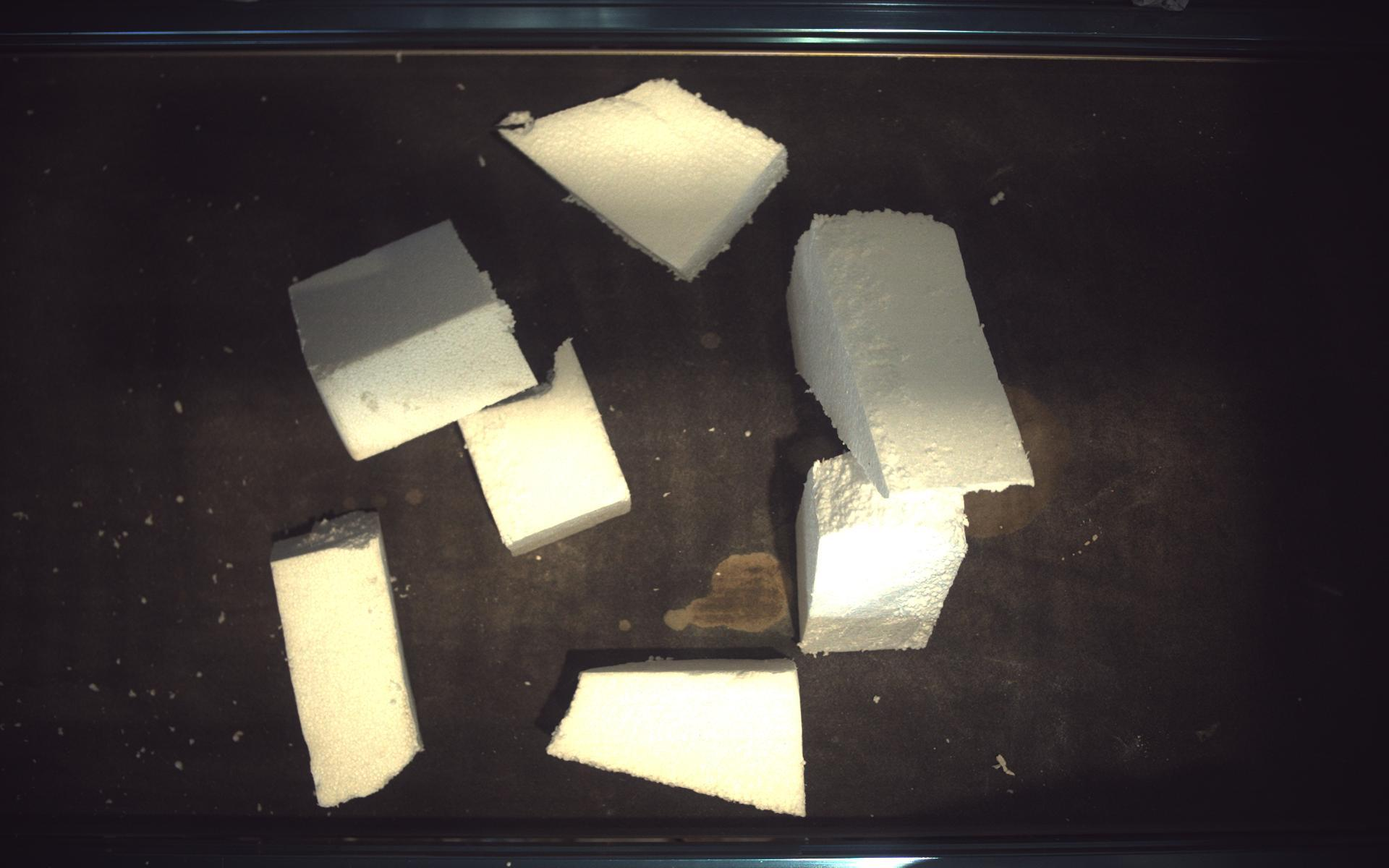foam: (790, 210, 1035, 499), (289, 220, 538, 460), (498, 78, 789, 279), (500, 78, 789, 278), (270, 511, 423, 809), (548, 660, 807, 818), (459, 339, 632, 556), (798, 454, 969, 655)
